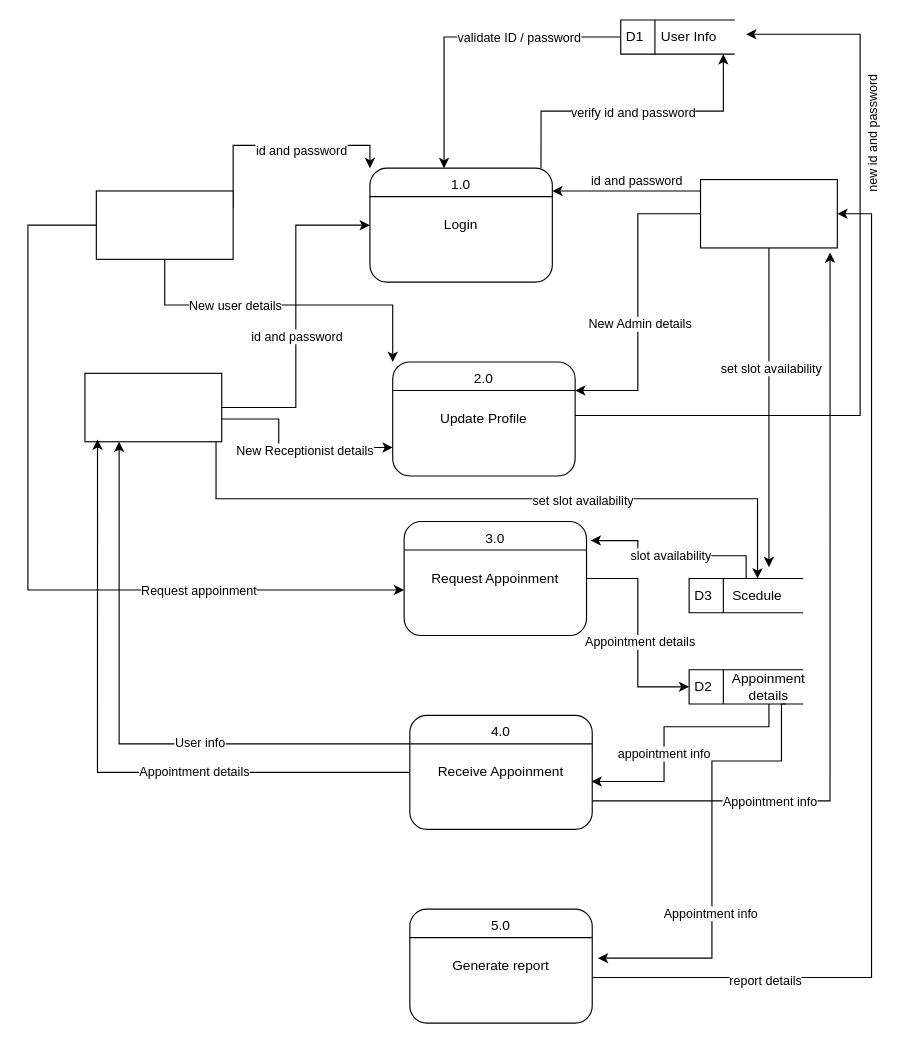
Some shapes in this 901 by 1043 pixel diagram are drawn without their labels. Here are the shapes that lost their labels. From the top down, the centre of each, then its label:
(164,224): User
(768,213): Admin
(153,407): Receptionist
